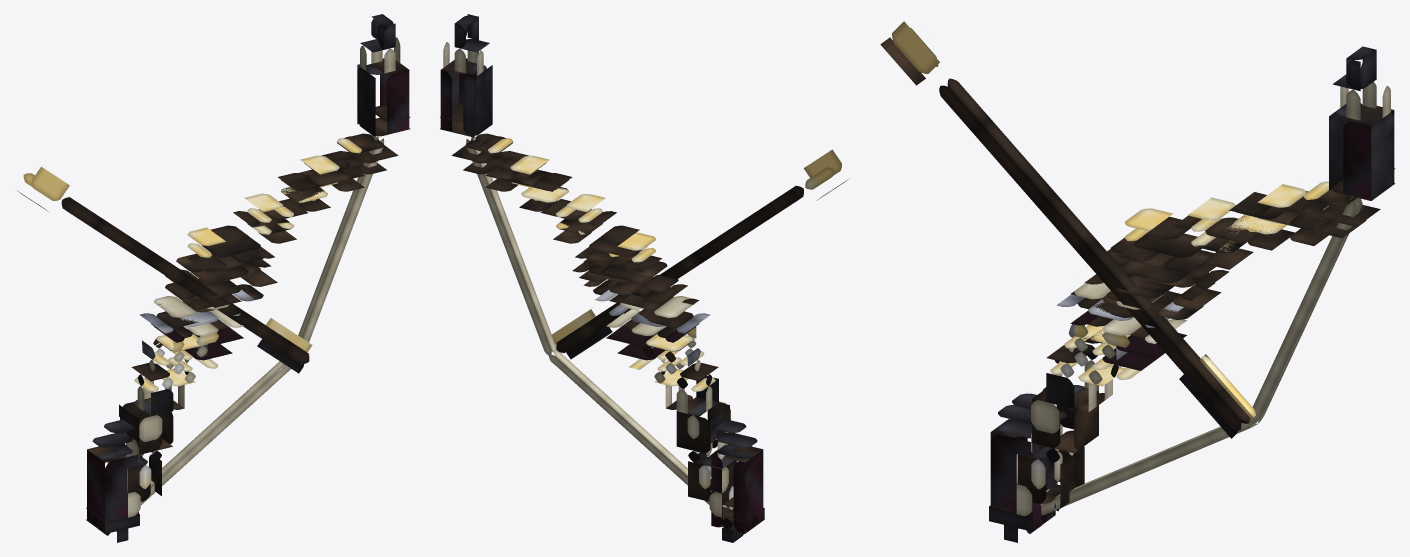
The model's file is requiem_pulling_1.obj.
3 views of the same model, side by side, from view 1: azimuth 30°, elevation 25°; view 2: azimuth 150°, elevation 25°; view 3: azimuth 330°, elevation 25° (orthographic). The views are drawn at different scales.
Parts seen in each view (by area): view 1: lit, fire; view 2: lit, fire; view 3: lit, fire.
Part boxes in pixels (bbox=[...]): lit: bbox=[18, 58, 410, 542]; fire: bbox=[92, 14, 400, 459]; lit: bbox=[440, 58, 848, 542]; fire: bbox=[443, 14, 757, 459]; lit: bbox=[880, 21, 1395, 542]; fire: bbox=[998, 46, 1390, 438].
Size of the model in its own units: 1.08 by 1.19 by 0.125.
